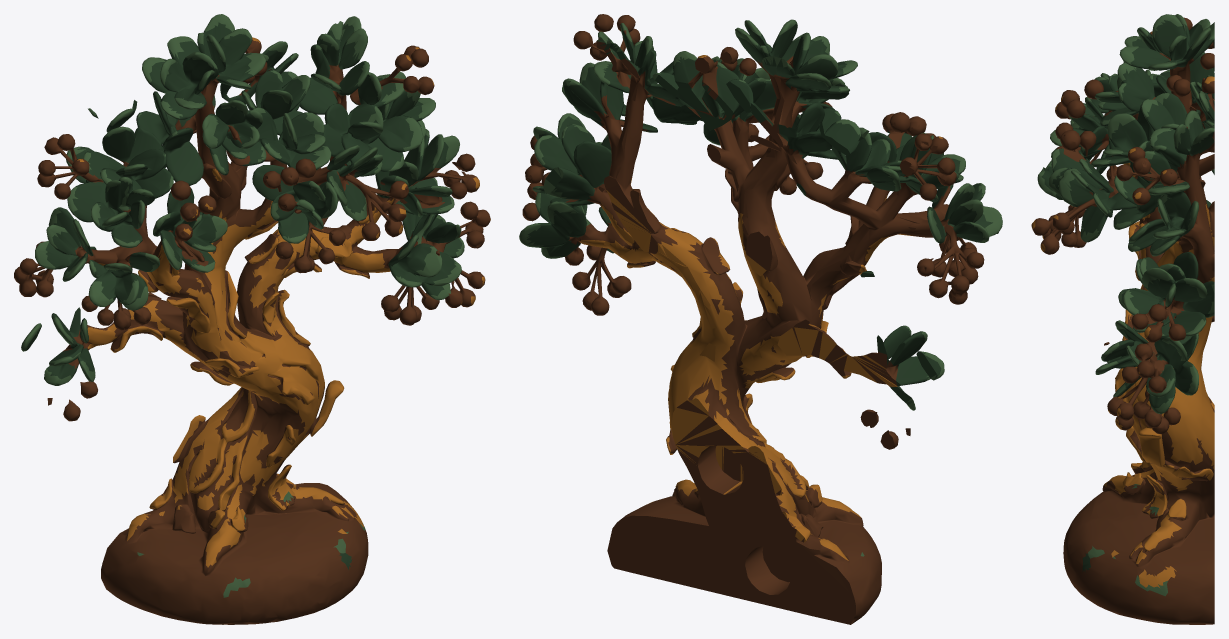
File: pacific-madrone-magnet.glb
3 views of the same model, side by side, from view 1: azimuth 30°, elevation 25°; view 2: azimuth 150°, elevation 25°; view 3: azimuth 270°, elevation 25° (orthographic). The views are drawn at different scales.
Parts seen in each view (by area): view 1: magnet; view 2: magnet; view 3: magnet.
Part boxes in pixels (box(x1,y1,x2,y2)): magnet: box(14, 14, 490, 624); magnet: box(519, 14, 1002, 624); magnet: box(1031, 14, 1214, 624).
Bounding box in the file's own units: 64.57 × 74.97 × 22.98.
